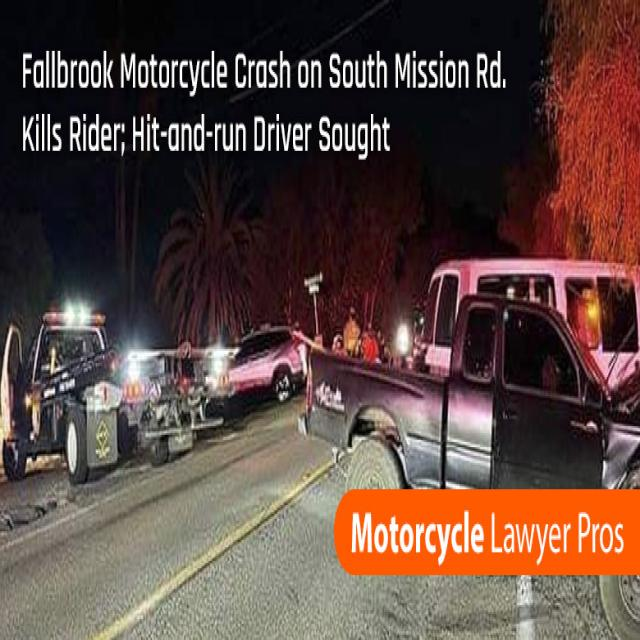Accident: (227, 294, 638, 546), (2, 302, 200, 491)
